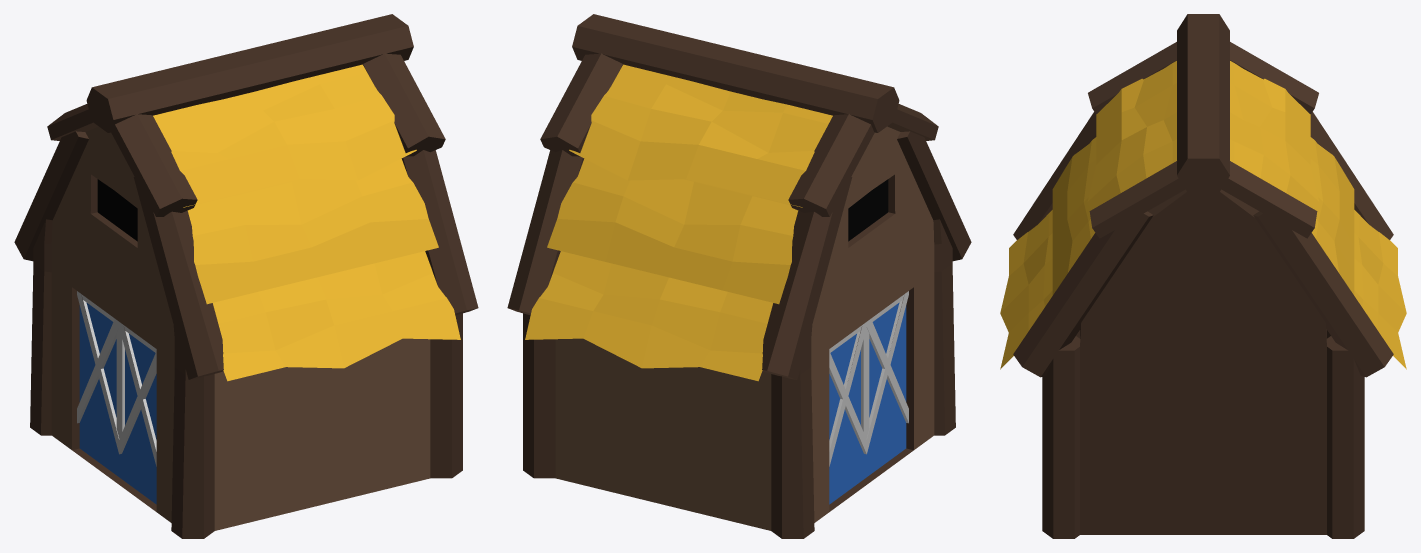
File: Cow Farm LvL 1.fbx
3 renders of one model, left to right at view 1: azimuth 30°, elevation 25°; view 2: azimuth 150°, elevation 25°; view 3: azimuth 270°, elevation 25°, orthographic.
Visible parts, largest first — view 1: Cow Farm, Team Color Obj; view 2: Cow Farm, Team Color Obj; view 3: Cow Farm.
Boxes of the visible parts, bbox=[...] form: Cow Farm: bbox=[14, 14, 478, 538]; Team Color Obj: bbox=[79, 302, 156, 504]; Cow Farm: bbox=[507, 14, 971, 538]; Team Color Obj: bbox=[829, 302, 906, 504]; Cow Farm: bbox=[1000, 14, 1406, 538].
Bounding box in the file's own units: 121 × 150 × 143.
